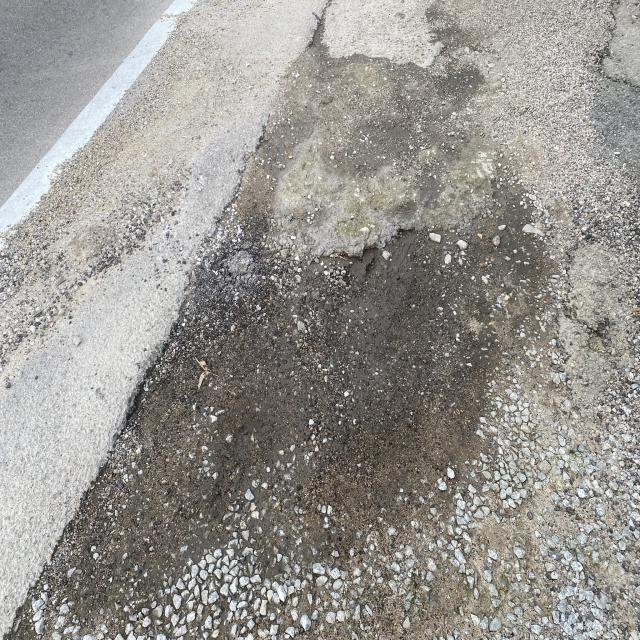pothole: (250, 186, 457, 304), (100, 302, 200, 502)
